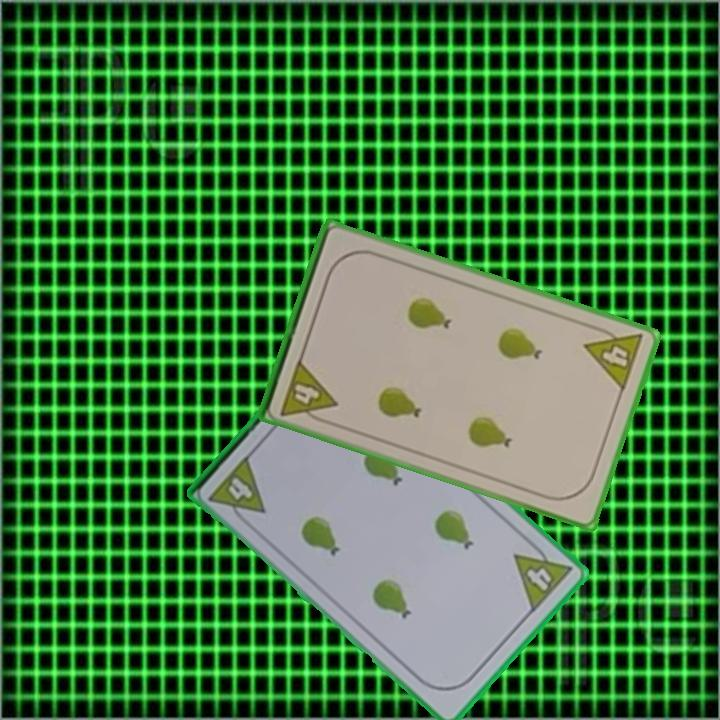4p: (510, 535, 575, 616), (205, 451, 269, 530), (581, 320, 647, 394), (277, 355, 340, 427)
